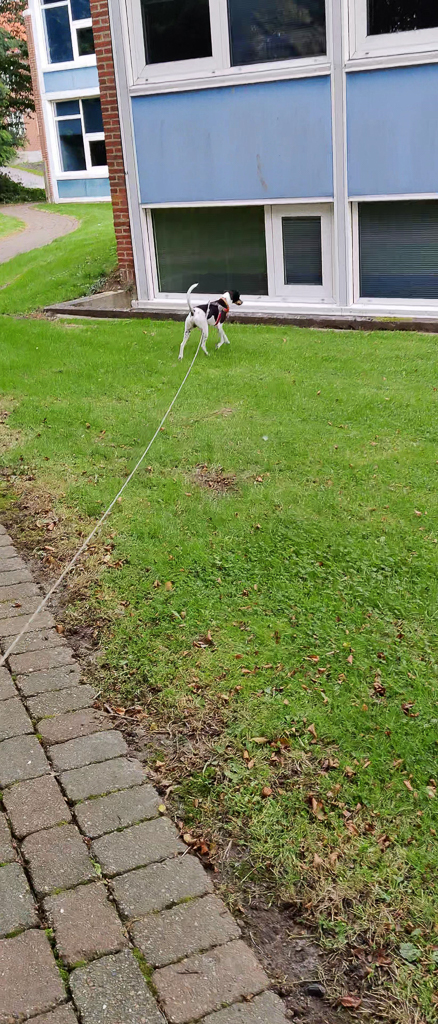Dog: (169, 274, 251, 368)
